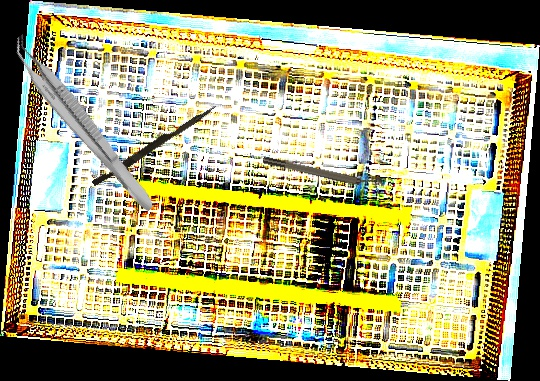Fixation Ring: (261, 149, 385, 195)
Pusher: (91, 100, 218, 190)
Tissue Forceps: (2, 32, 166, 215)
